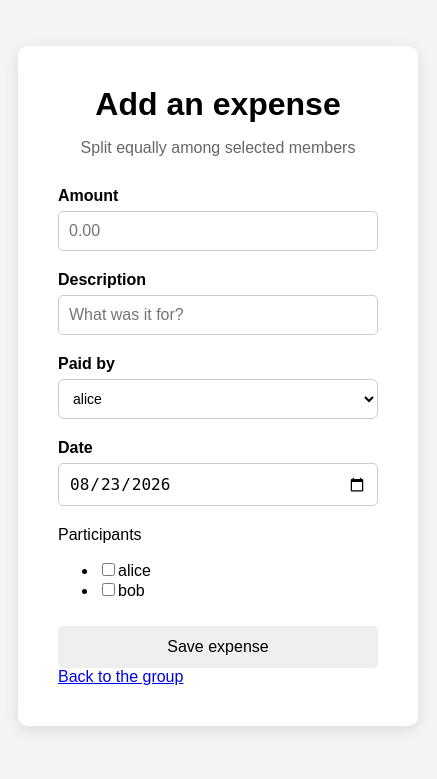
Test case: AC2: shows an inline error on each missing field
This screenshot has width=437, height=779.
Click the button "Save expense" at (218, 647), box [58, 626, 378, 668]
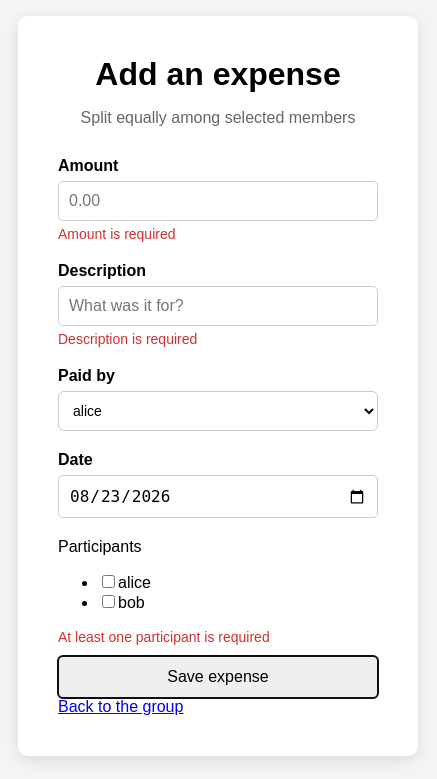
Now the text "Amount is required" is shown, box [58, 226, 176, 242]
Now the text "Description is required" is shown, box [58, 331, 197, 347]
